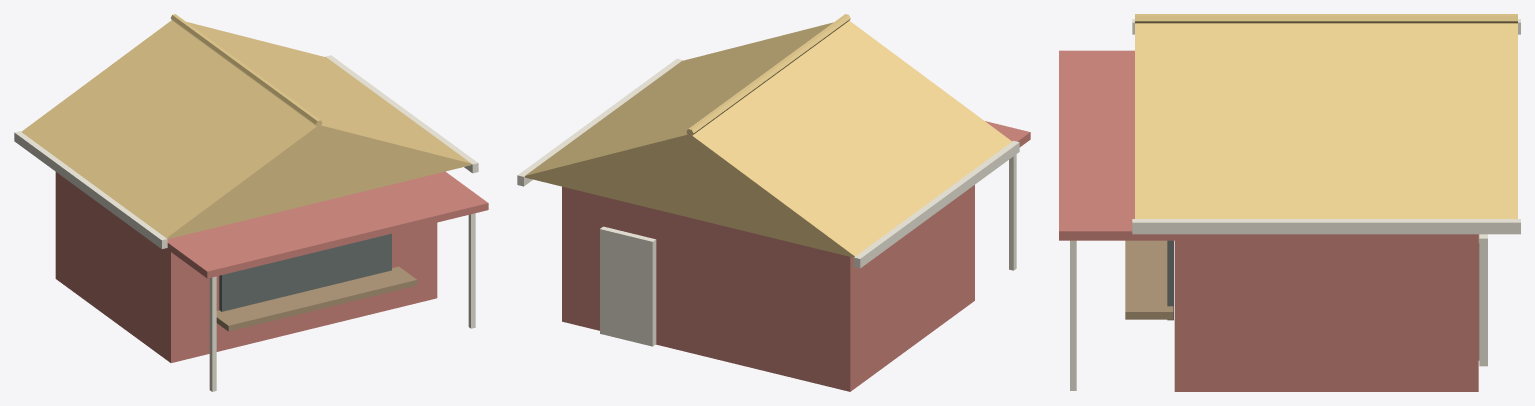
3 renders of one model, left to right at view 1: azimuth 30°, elevation 25°; view 2: azimuth 150°, elevation 25°; view 3: azimuth 270°, elevation 25°, orthographic. The views are drawn at different scales.
Bounding box in the file's own units: 8.56 × 5.71 × 8.2.
